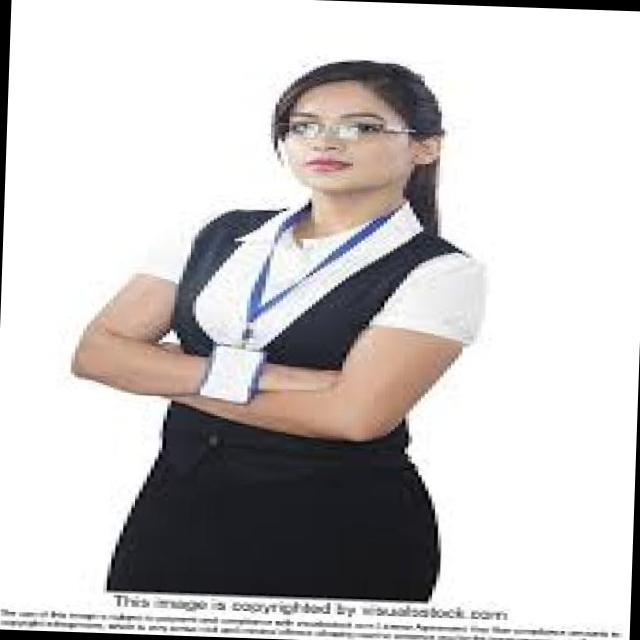id_card: (200, 200, 382, 410)
